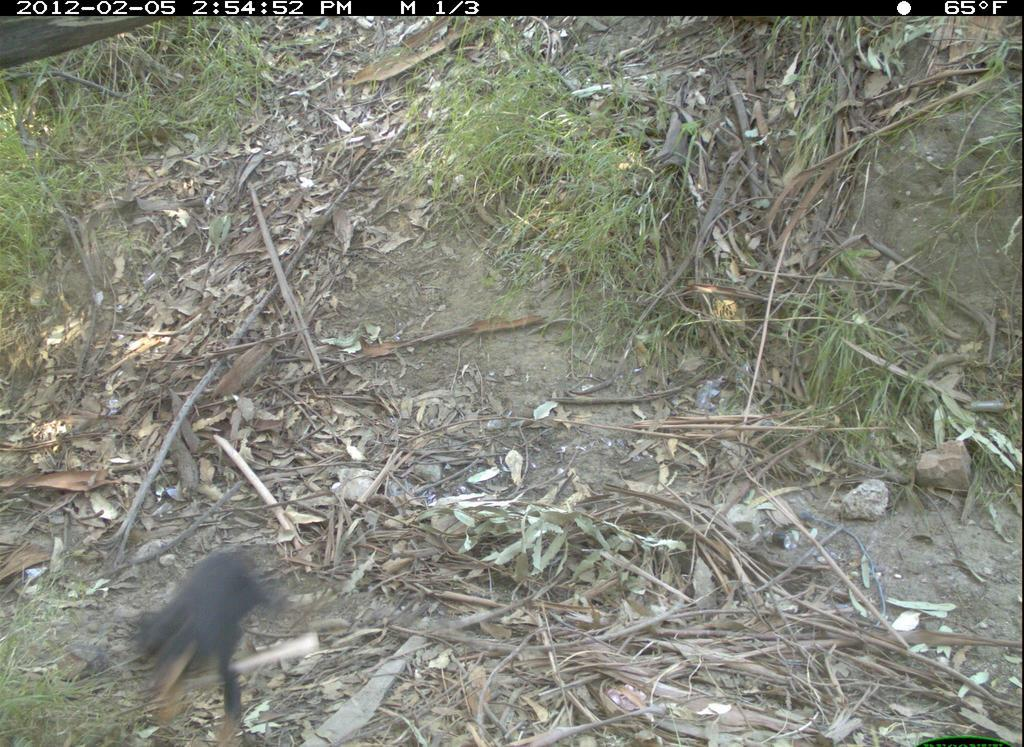dog: (129, 550, 303, 745)
